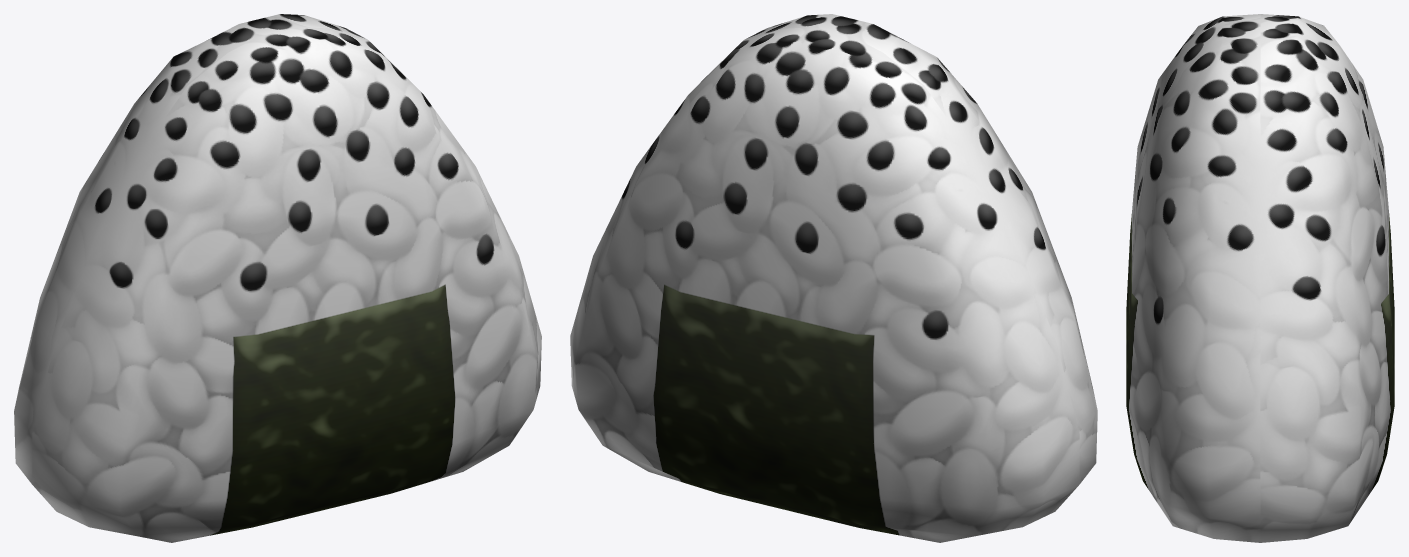
The model's file is Onigiri_02.fbx.
3 views of the same model, side by side, from view 1: azimuth 30°, elevation 25°; view 2: azimuth 150°, elevation 25°; view 3: azimuth 270°, elevation 25° (orthographic). The views are drawn at different scales.
Visible parts, largest first — view 1: Onigiri_02; view 2: Onigiri_02; view 3: Onigiri_02.
Boxes of the visible parts, x1,y1,x2,y2 form: Onigiri_02: (14,14,541,542); Onigiri_02: (570,14,1097,542); Onigiri_02: (1126,14,1394,542).
Bounding box in the file's own units: 43.77 × 38.35 × 21.49.
